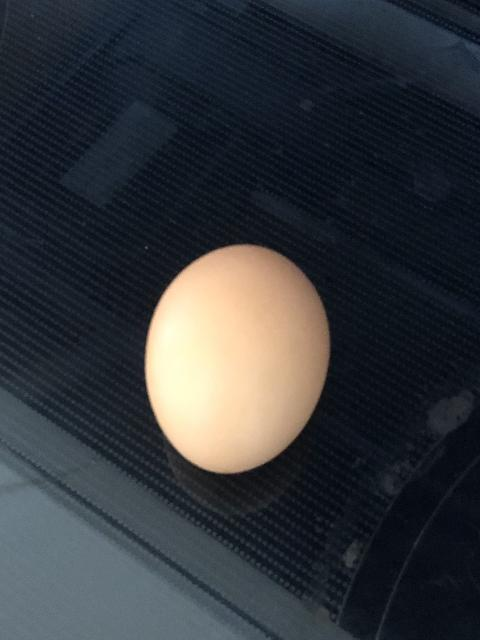Sano: (143, 242, 332, 475)
